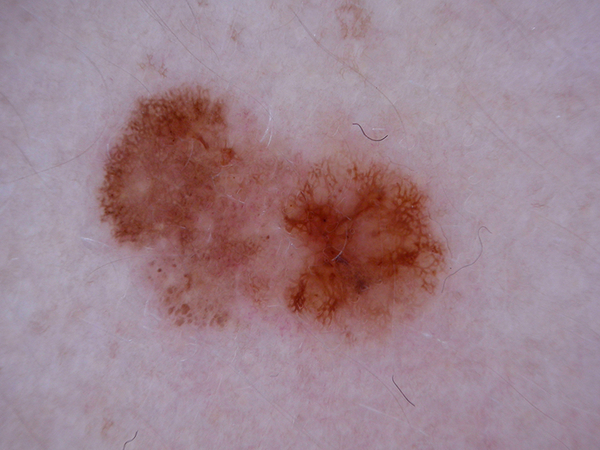Detected Lesion: (94, 76, 463, 341)
